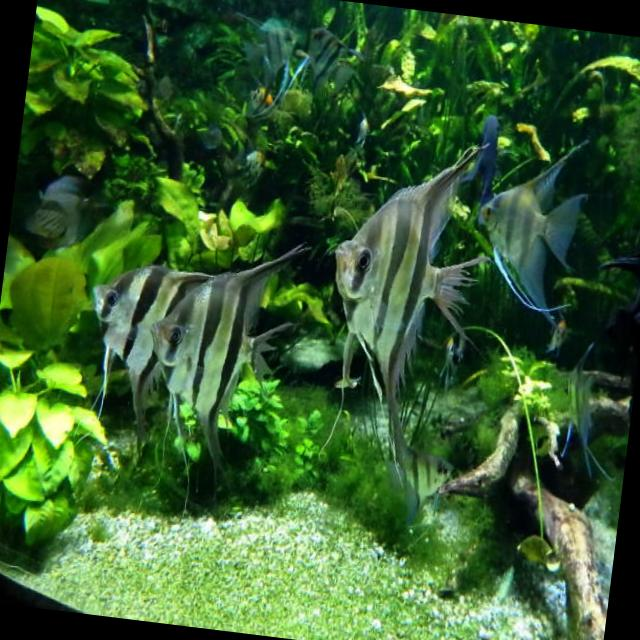AngelFish: (297, 136, 491, 510), (131, 225, 316, 496), (464, 116, 594, 334), (76, 250, 219, 422), (552, 347, 626, 498)
